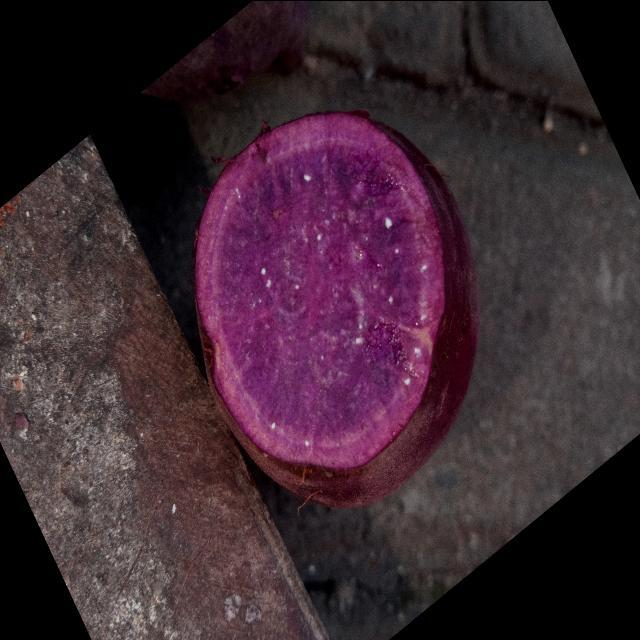Healthy Sweet Potato: (195, 112, 444, 468)
